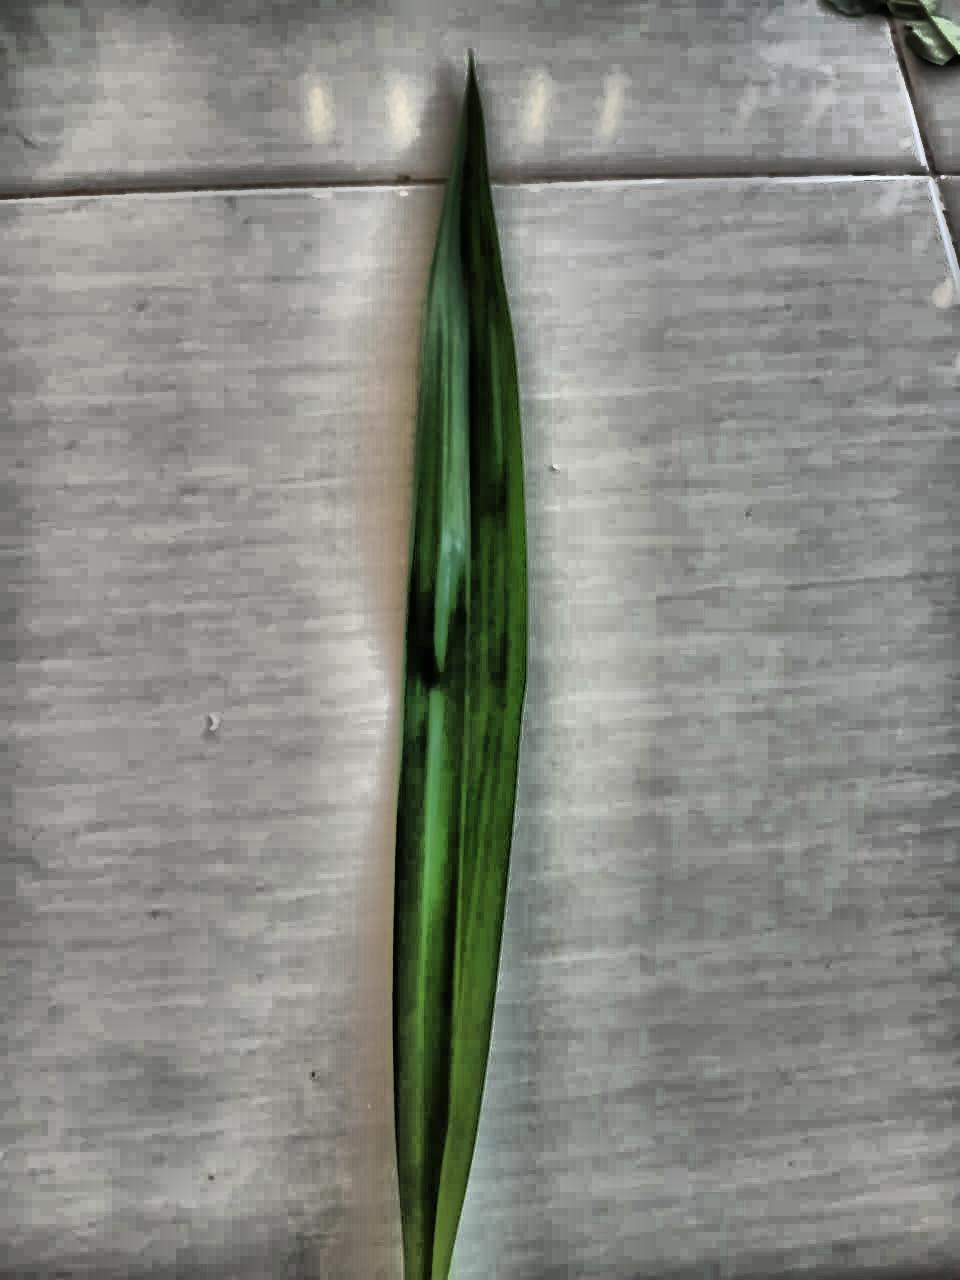daun pandan: (392, 61, 527, 1279)
